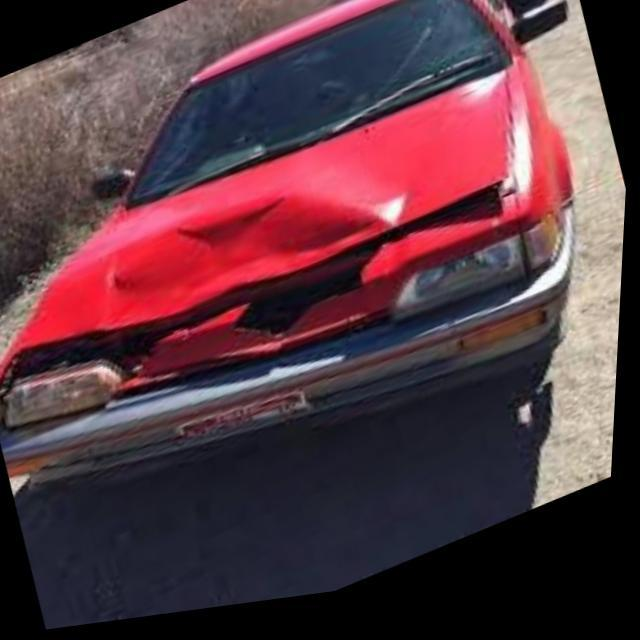dislocated part: (0, 170, 525, 420)
